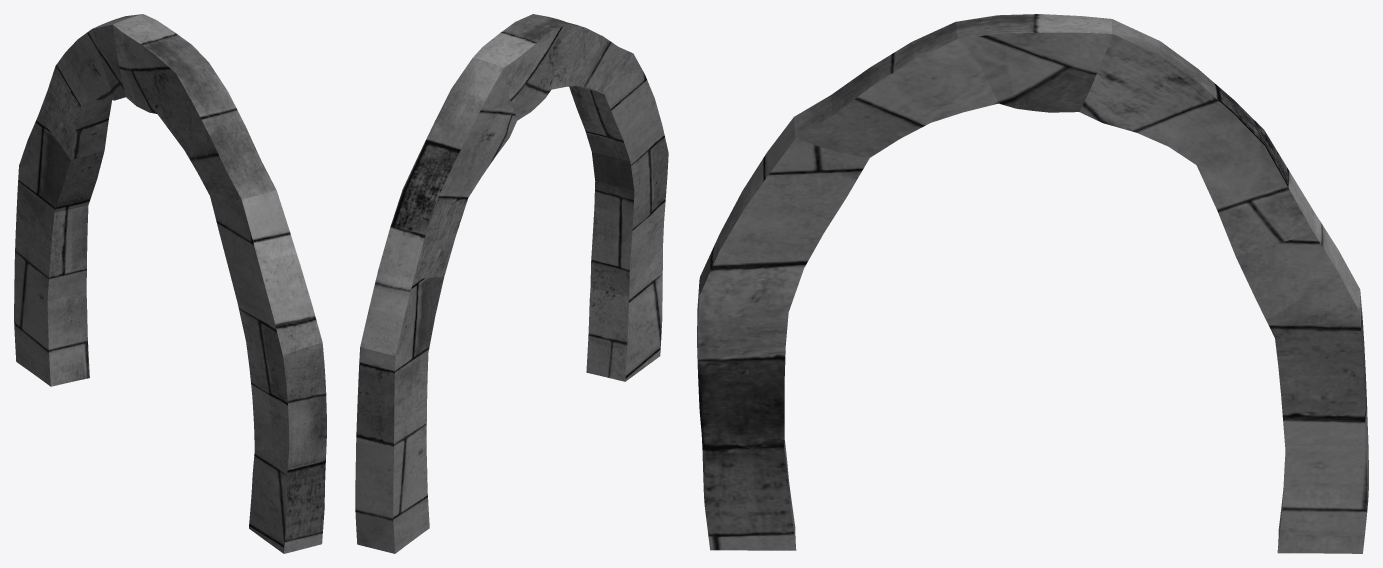
Rendered from stone_gateway.glb.
3 renders of one model, left to right at view 1: azimuth 30°, elevation 25°; view 2: azimuth 150°, elevation 25°; view 3: azimuth 270°, elevation 25°, orthographic. The views are drawn at different scales.
Visible parts, largest first — view 1: Cube; view 2: Cube; view 3: Cube.
Boxes of the visible parts, bbox=[...] form: Cube: bbox=[14, 14, 326, 553]; Cube: bbox=[355, 14, 668, 553]; Cube: bbox=[697, 14, 1368, 553].
Bounding box in the file's own units: 0.4699 × 3.84 × 4.55.
1 material, 1 textured.
